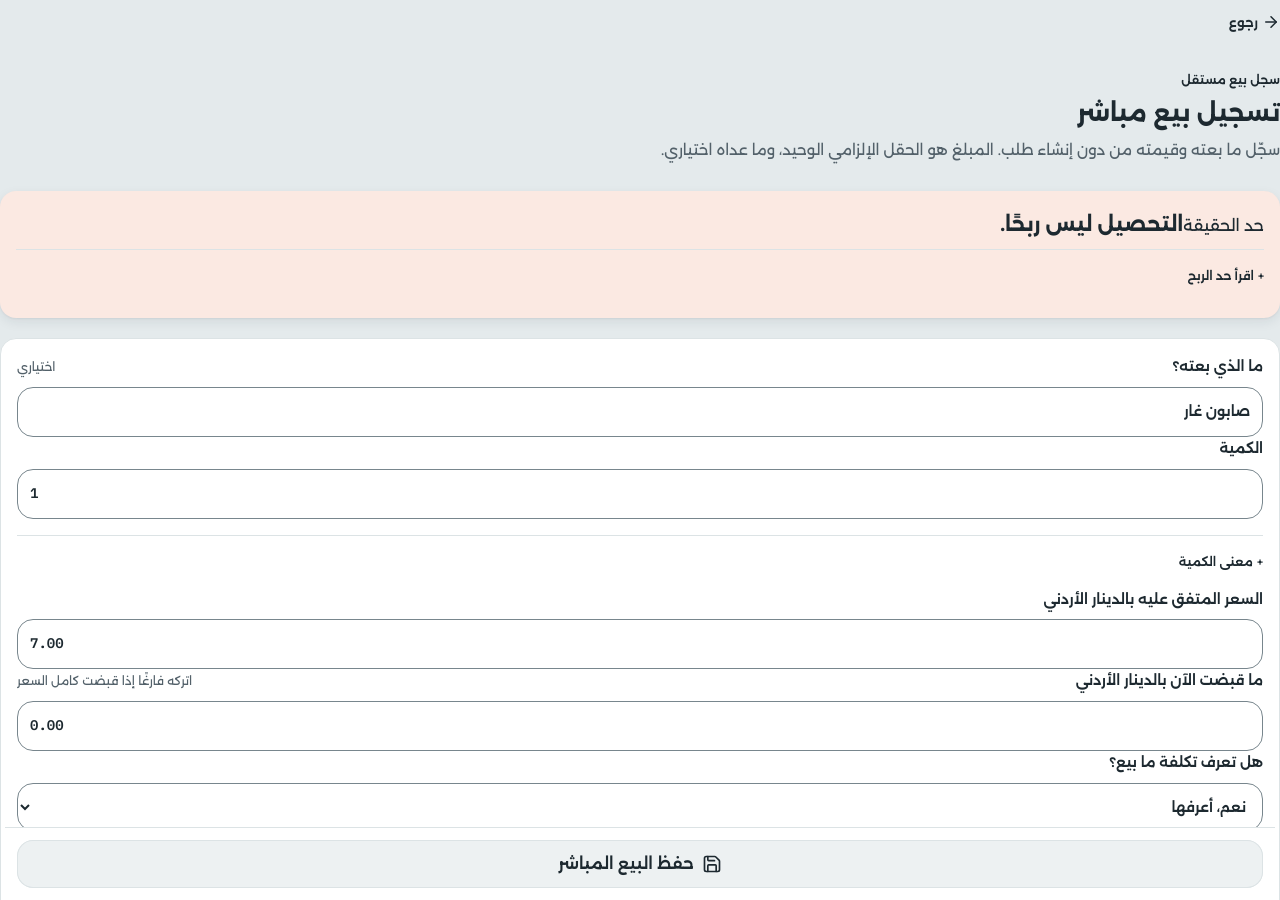
Scenario: G3 — Group 3 surfaces: calculator, estimates, product-to-sale › product-to-sale: prefilled suggestions, owner overrides the price, one sale, attributed cash, factual closure
Expected: the heading "تسجيل بيع مباشر" is shown, [1077,98,1279,127]
Expected: the field with placeholder "مثال: كوب جاهز" holds "صابون غار", [17,387,1263,437]
Replace the text in the field labelled "السعر المتفق عليه" with "9.50" at (640, 644), box [17,620,1263,669]
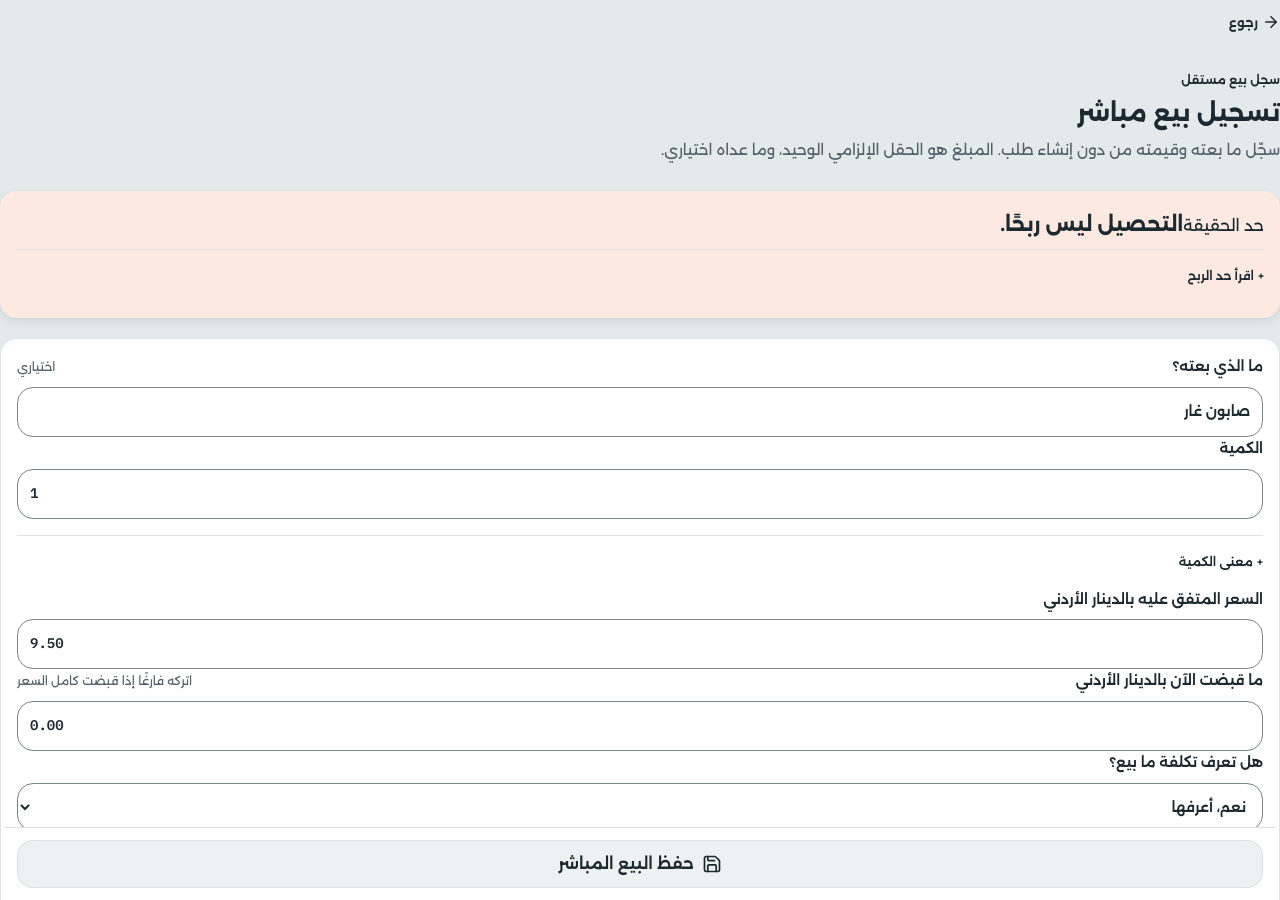
Click the button "حفظ البيع المباشر" at (640, 864), box [17,840,1263,888]
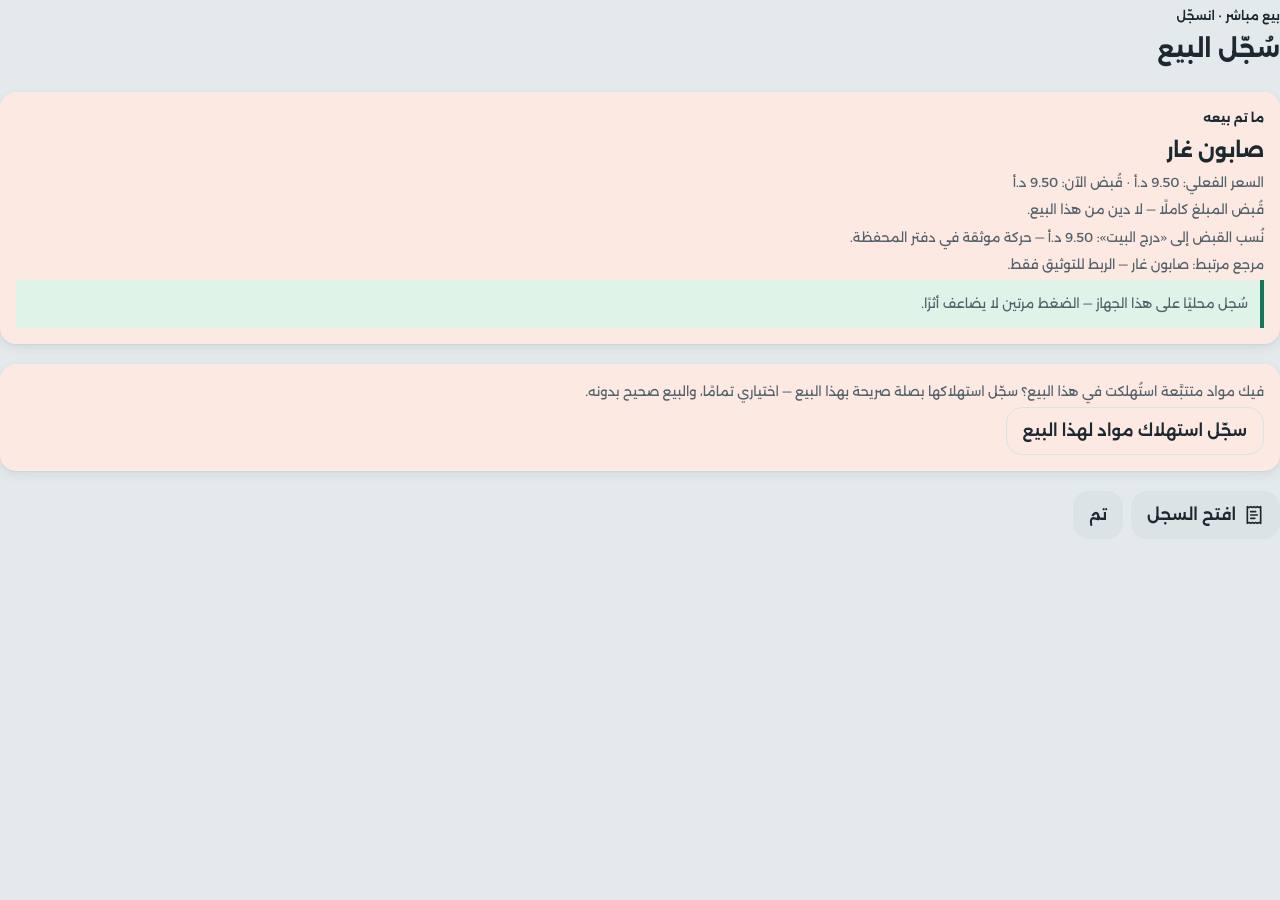
Expected: the heading "سُجّل البيع" is shown, [1157,34,1279,63]
Expected: the text "صابون غار" is shown, [1166,138,1264,162]
Expected: the text "قُبض المبلغ كاملًا — لا دين من هذا البيع." is shown, [1027,201,1264,217]
